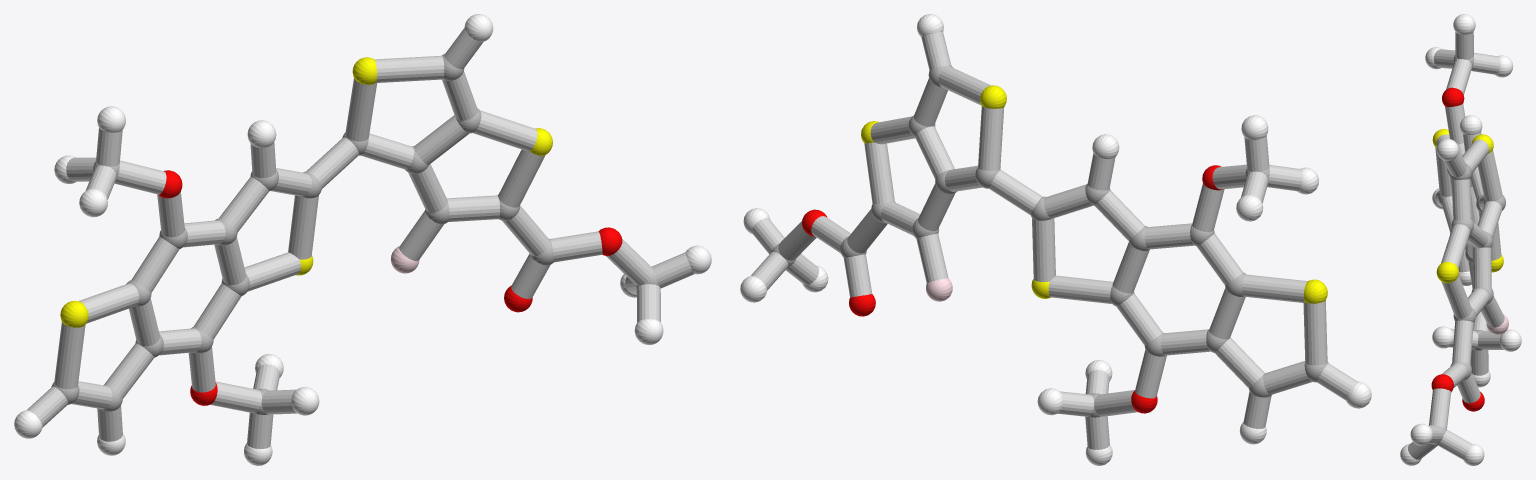
File: color.glb
3 views of the same model, side by side, from view 1: azimuth 30°, elevation 25°; view 2: azimuth 150°, elevation 25°; view 3: azimuth 270°, elevation 25° (orthographic). The views are drawn at different scales.
Parts seen in each view (by area): view 1: grp15205, grp8689, grp1, grp7241, grp13395; view 2: grp15205, grp8689, grp1, grp7241, grp13395; view 3: grp15205, grp8689, grp1, grp13395, grp7241, grp14843.
Part boxes in pixels (x1,y1,x2,y2): grp15205: [27, 28, 694, 448]; grp8689: [14, 14, 711, 465]; grp1: [51, 54, 658, 414]; grp7241: [60, 57, 552, 327]; grp13395: [158, 170, 622, 405]; grp15205: [751, 31, 1357, 449]; grp8689: [740, 14, 1371, 465]; grp1: [771, 65, 1328, 417]; grp7241: [861, 85, 1327, 303]; grp13395: [802, 165, 1222, 413]; grp15205: [1408, 32, 1504, 459]; grp8689: [1400, 14, 1521, 465]; grp1: [1432, 55, 1505, 445]; grp13395: [1431, 87, 1484, 411]; grp7241: [1432, 129, 1503, 283]; grp14843: [1486, 314, 1508, 334].
Size of the model in its own units: 16.35 by 9.55 by 3.26.
